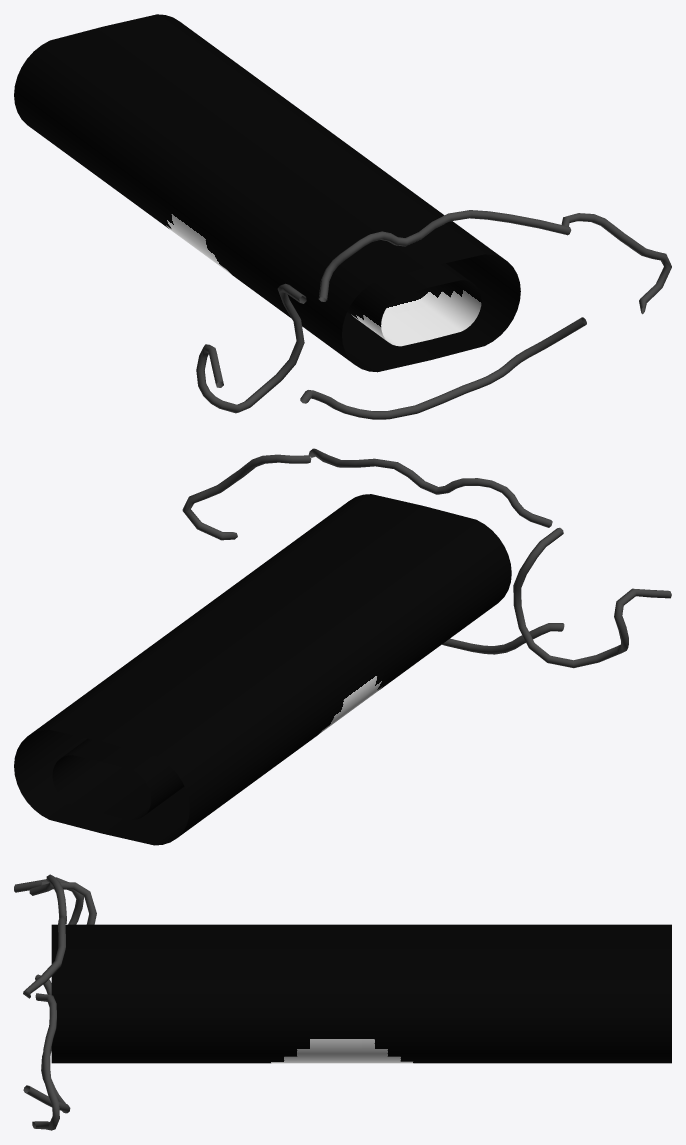
The model's file is spaceShipBut.glb.
The picture shows the model from 3 angles, top to bottom: view 1: azimuth 30°, elevation 25°; view 2: azimuth 150°, elevation 25°; view 3: azimuth 270°, elevation 25°; orthographic projection. The views are drawn at different scales.
Visible parts, largest first — view 1: Circle.025, BézierCurve.002, BézierCurve.004, BézierCurve.001, BézierCurve.005; view 2: Circle.025, BézierCurve.004, BézierCurve.001, BézierCurve.005, BézierCurve.002; view 3: Circle.025, BézierCurve.005, BézierCurve.001, BézierCurve.004, BézierCurve.002.
Part boxes in pixels (bbox=[...]): Circle.025: bbox=[14, 14, 520, 372]; BézierCurve.002: bbox=[300, 317, 586, 419]; BézierCurve.004: bbox=[196, 283, 306, 413]; BézierCurve.001: bbox=[318, 210, 571, 301]; BézierCurve.005: bbox=[561, 213, 671, 314]; Circle.025: bbox=[14, 494, 511, 845]; BézierCurve.004: bbox=[513, 527, 671, 668]; BézierCurve.001: bbox=[308, 448, 552, 527]; BézierCurve.005: bbox=[182, 454, 311, 540]; BézierCurve.002: bbox=[442, 623, 564, 654]; Circle.025: bbox=[51, 924, 671, 1063]; BézierCurve.005: bbox=[32, 993, 59, 1130]; BézierCurve.001: bbox=[23, 874, 66, 998]; BézierCurve.004: bbox=[14, 877, 96, 924]; BézierCurve.002: bbox=[23, 974, 70, 1113].
Bounding box in the file's own units: 251 × 92.78 × 317.
Materials: 2 (1 with a texture image).
